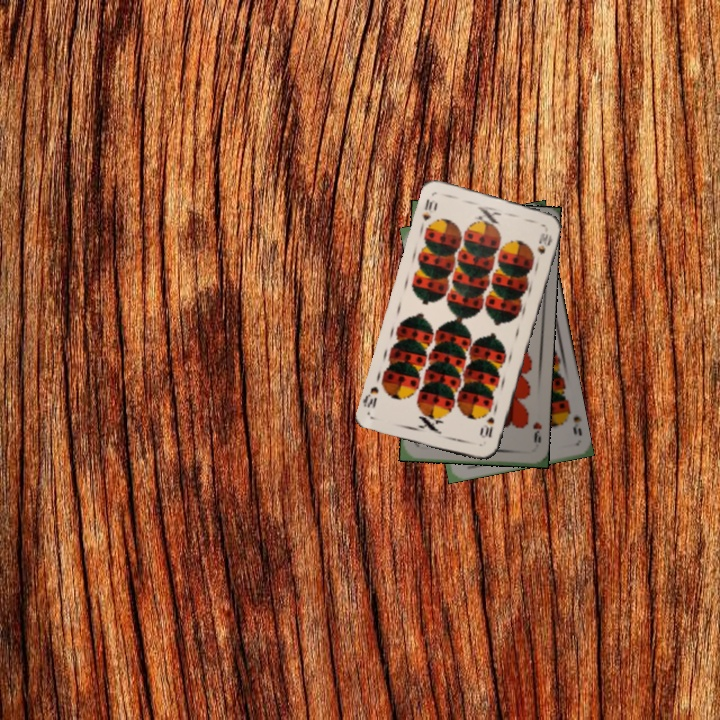H9: (529, 419, 544, 445)
S10: (418, 195, 440, 223), (478, 413, 497, 441)
S9: (562, 402, 584, 438)
